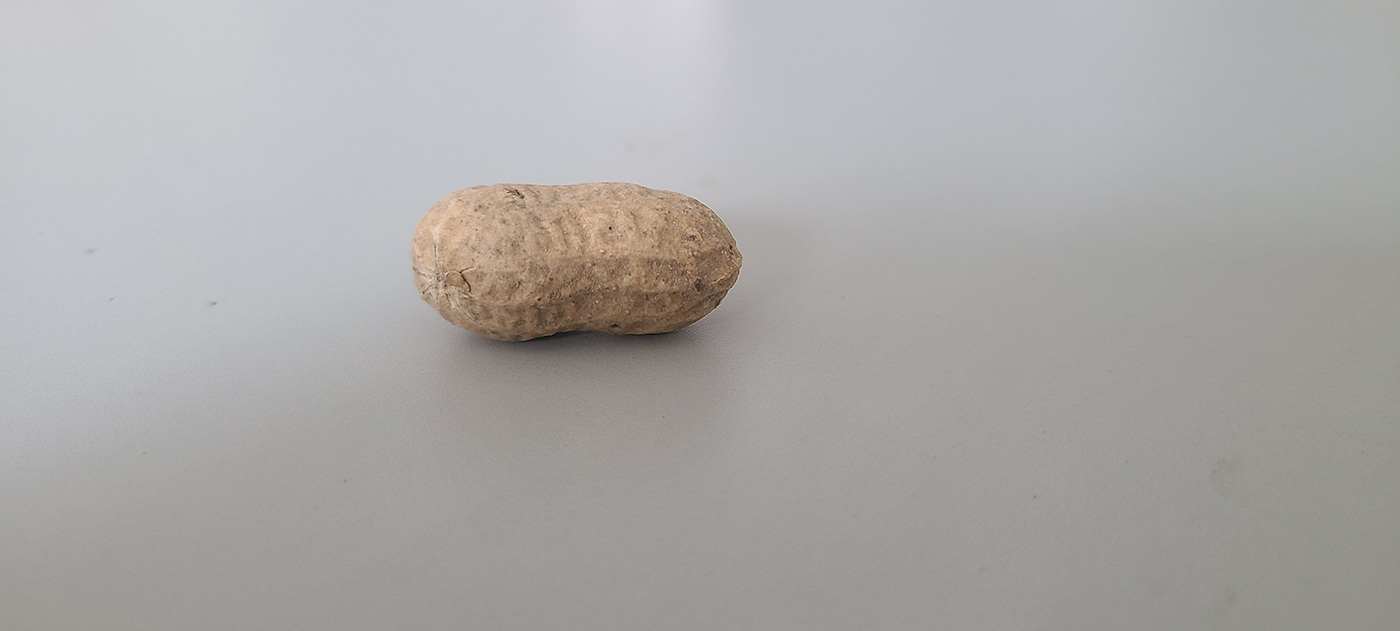h: (408, 179, 741, 344)
